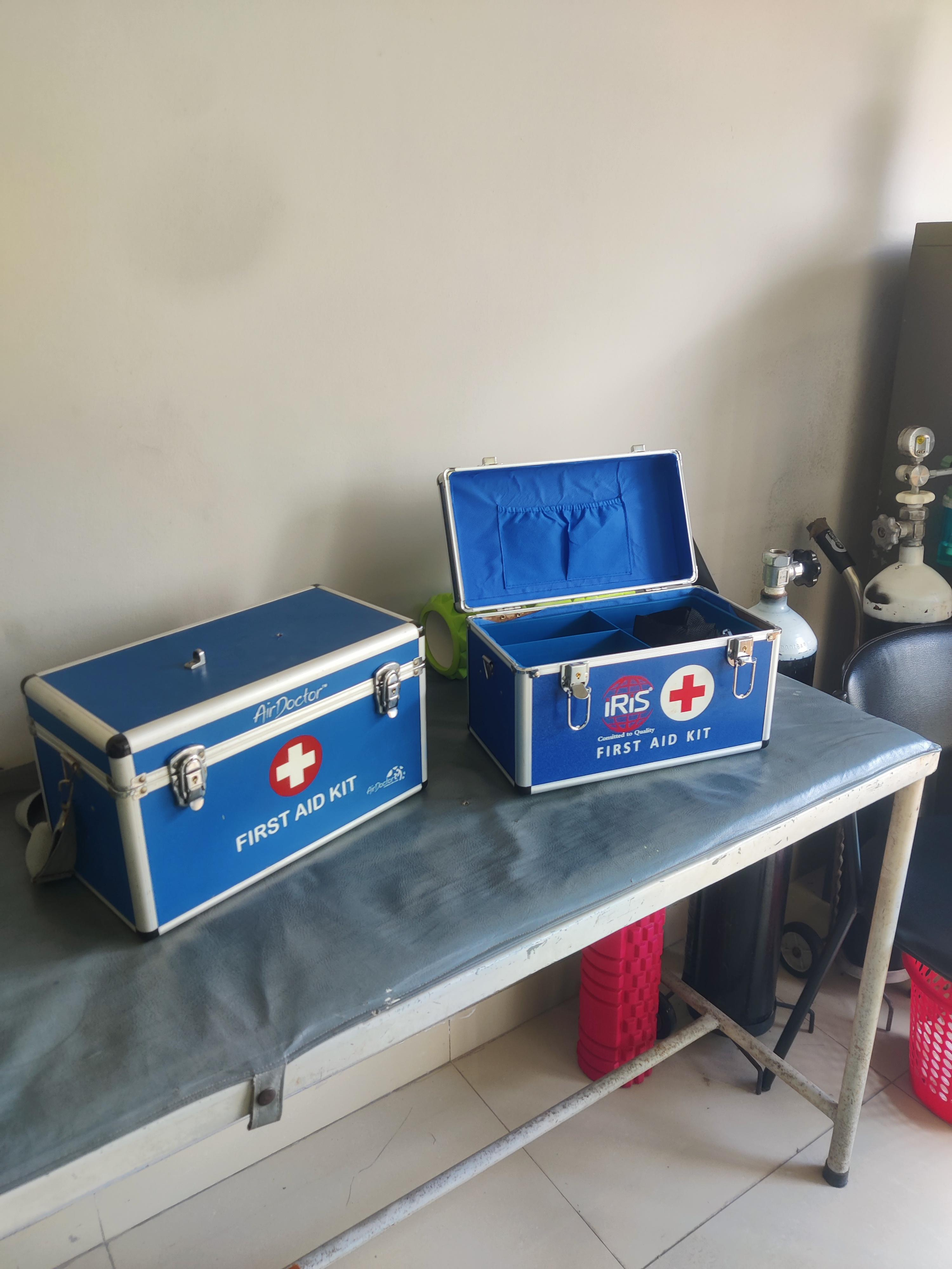FirstAidBox: (21, 571, 436, 960), (432, 437, 812, 803)
